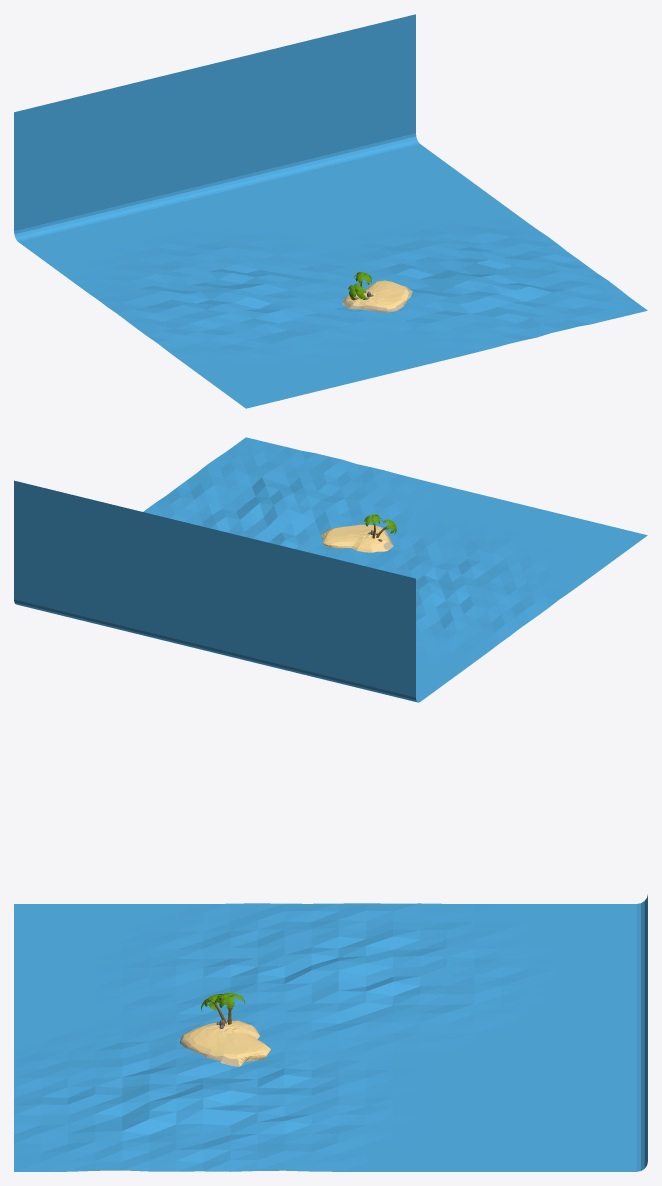
File: land.fbx
3 renders of one model, top to bottom at view 1: azimuth 30°, elevation 25°; view 2: azimuth 150°, elevation 25°; view 3: azimuth 270°, elevation 25°, orthographic. The views are drawn at different scales.
Parts seen in each view (by area): view 1: Plane, Sphere.008; view 2: Plane, Sphere.008; view 3: Plane, Sphere.008.
Boxes of the visible parts, <box> form: Plane: <box>14,14,647,408</box>; Sphere.008: <box>342,280,412,312</box>; Plane: <box>14,437,647,702</box>; Sphere.008: <box>320,524,393,552</box>; Plane: <box>14,894,647,1171</box>; Sphere.008: <box>179,1020,270,1066</box>.
Size of the model in its own units: 41.19 by 12.39 by 41.19.
